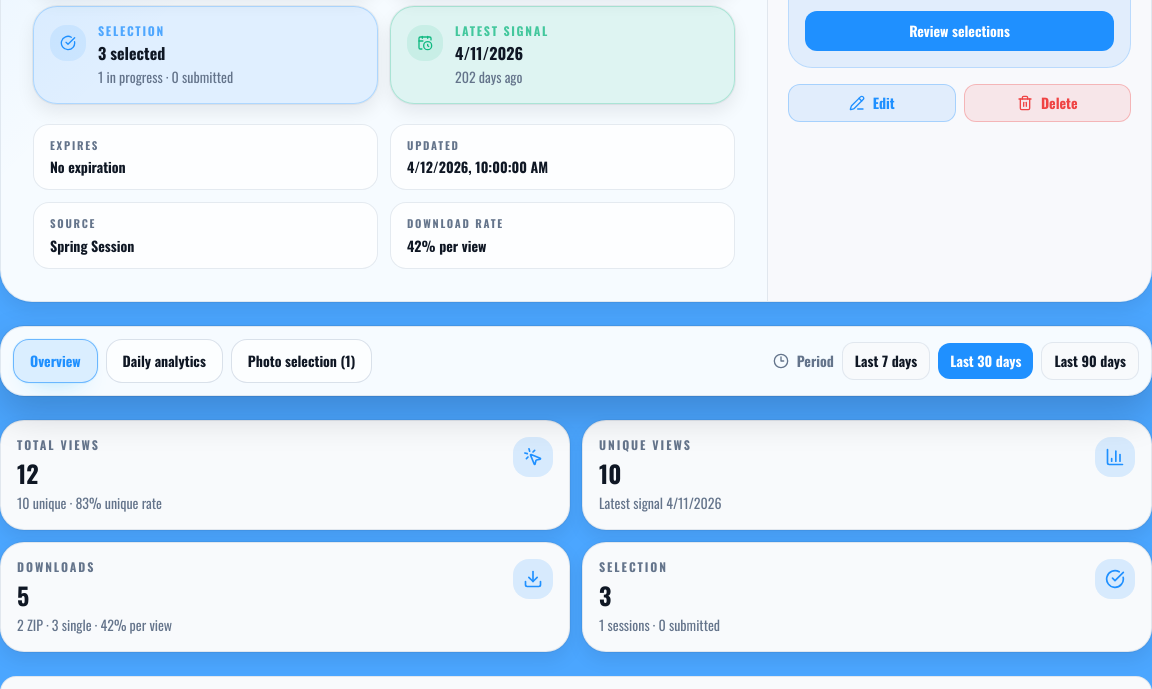
ShareLinkDetailPage › refreshes selection configuration and the active session detail
The image size is (1152, 689).
(page scrolled)
Click the tab "Photo selection (1)": point(302, 361) [231,339,372,383]
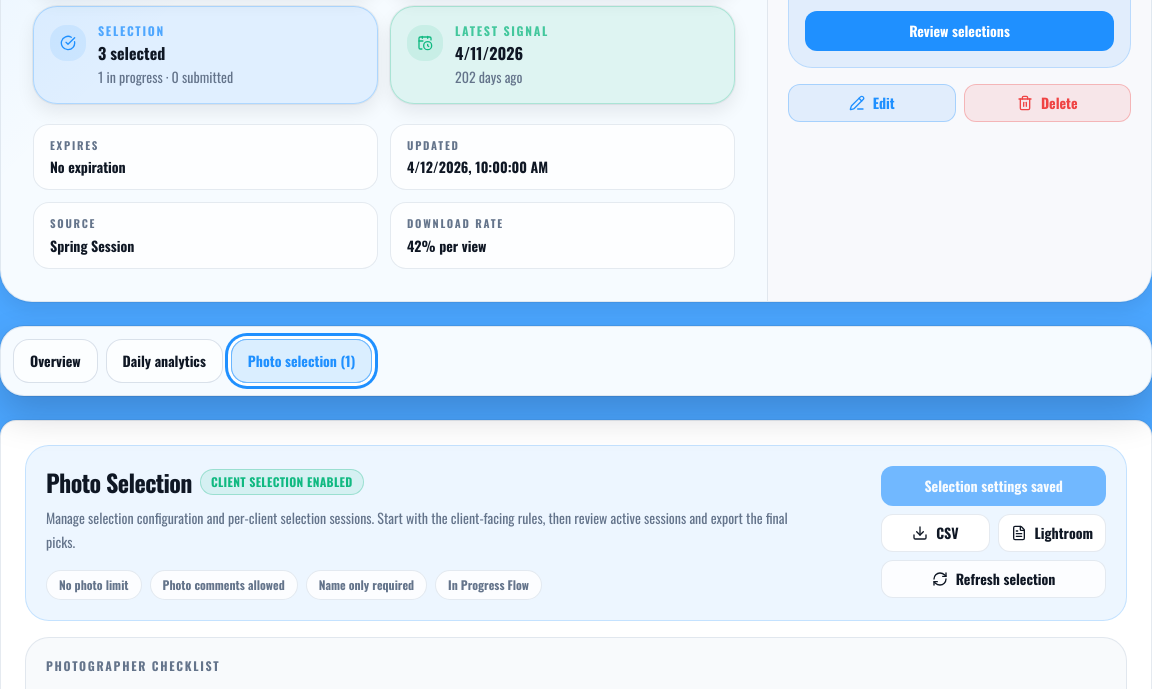
Expected: the text "Manage selection configuration and per-client selection sessions" is shown, [46,507,788,552]
Click the button "Refresh selection": point(994, 579) [881,560,1106,598]
(page scrolled)
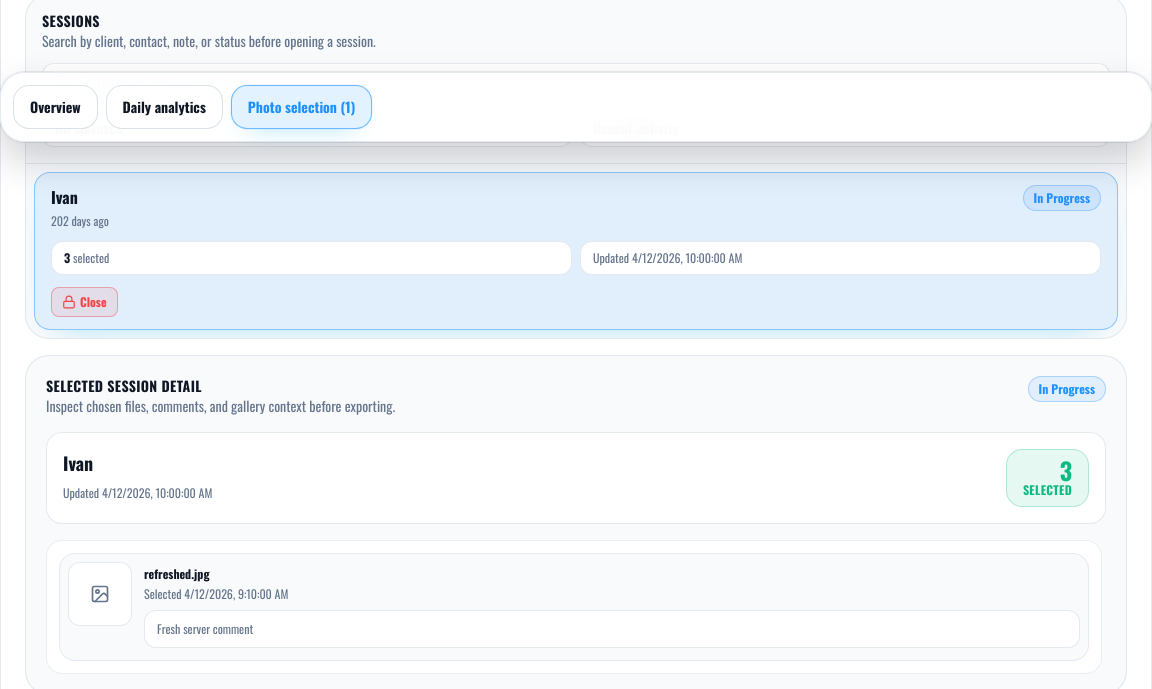
Expected: the text "Fresh server comment" is shown, [144,610,1080,648]
